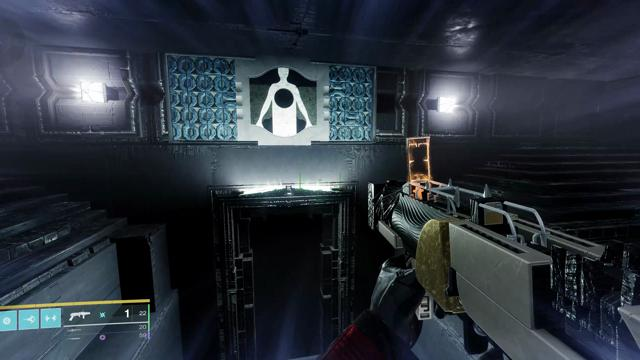grief: (249, 66, 317, 138)
